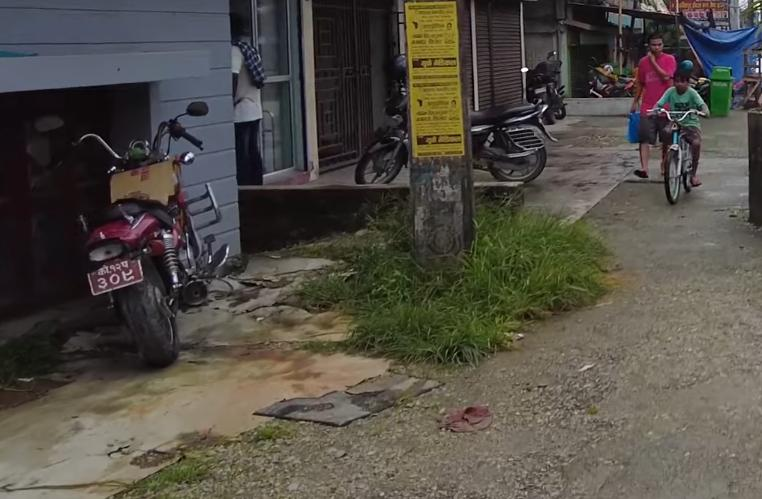bike: (64, 98, 234, 374)
